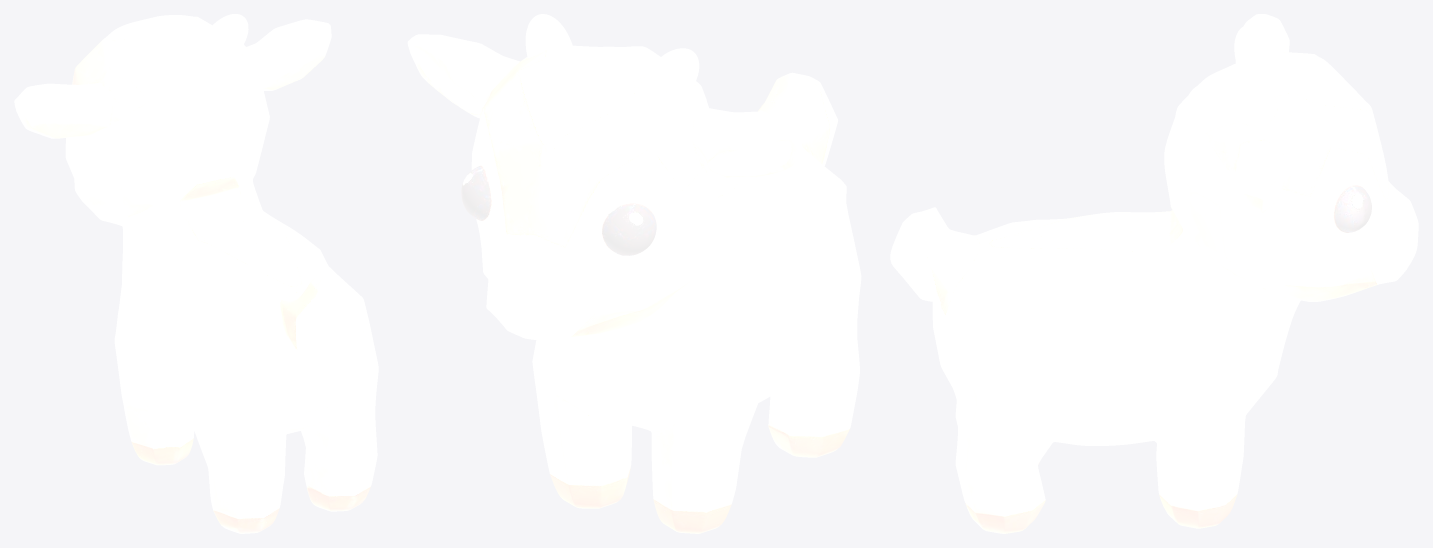
File: babygoat.glb
3 views of the same model, side by side, from view 1: azimuth 30°, elevation 25°; view 2: azimuth 150°, elevation 25°; view 3: azimuth 270°, elevation 25° (orthographic). The views are drawn at different scales.
Parts seen in each view (by area): view 1: Mesh_0; view 2: Mesh_0; view 3: Mesh_0.
Boxes of the visible parts, x1=… form: Mesh_0: x1=14, y1=14, x2=378, y2=533; Mesh_0: x1=407, y1=14, x2=861, y2=533; Mesh_0: x1=890, y1=14, x2=1418, y2=533.
Bounding box in the file's own units: 1.38 × 1.7 × 1.82.
1 material, 1 textured.
